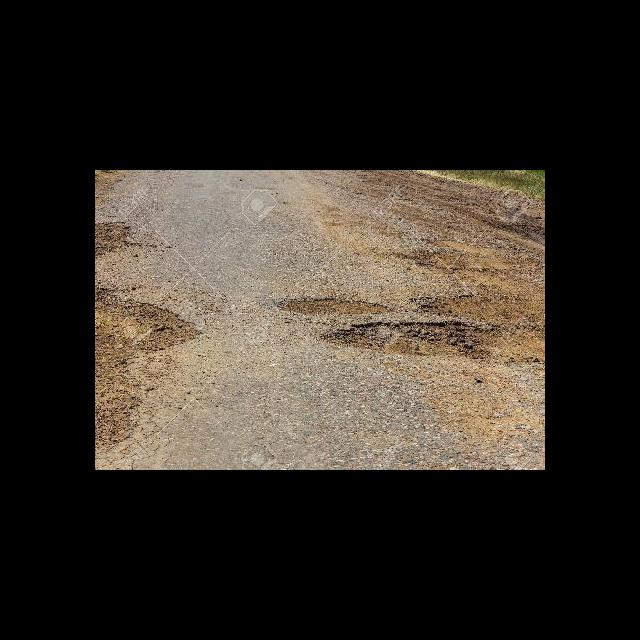lubang_kecil: (322, 310, 513, 371), (264, 283, 391, 319)
